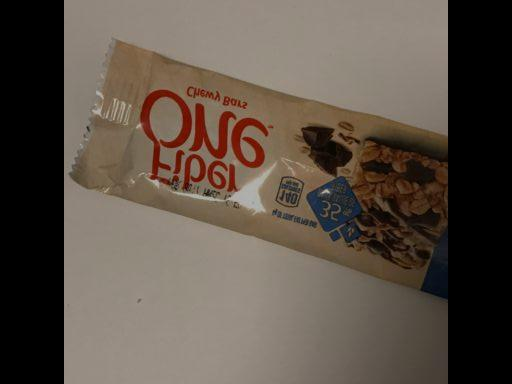trash: (72, 34, 447, 306)
